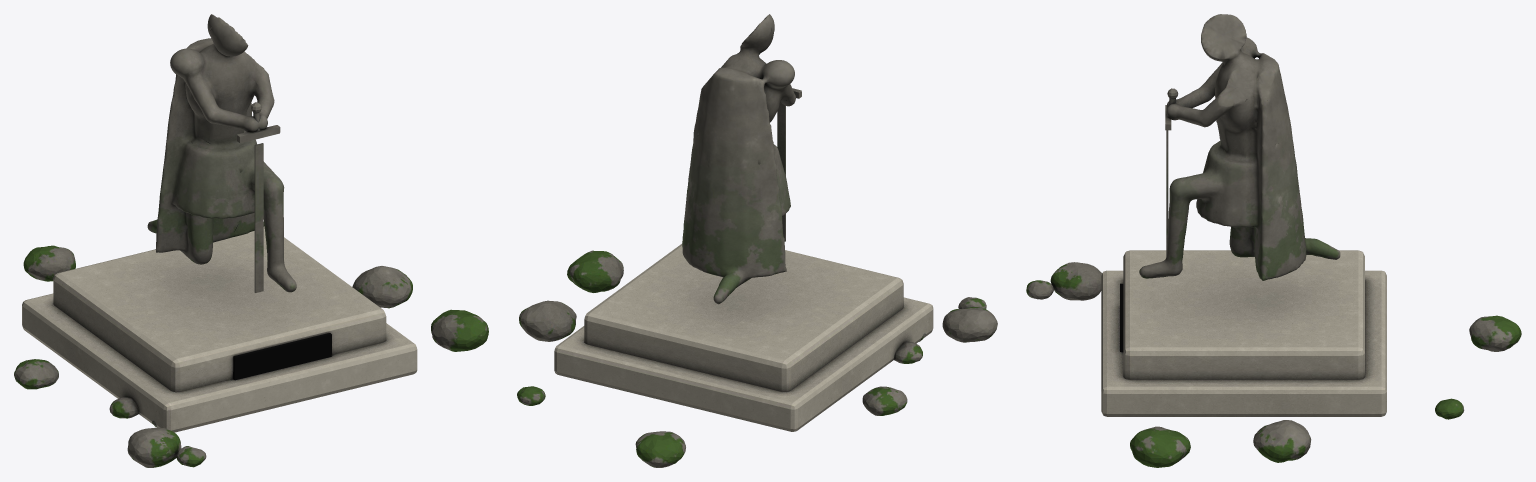
The model's file is vale_estatua_guerreiro.glb.
3 renders of one model, left to right at view 1: azimuth 30°, elevation 25°; view 2: azimuth 150°, elevation 25°; view 3: azimuth 270°, elevation 25°, orthographic. The views are drawn at different scales.
Parts seen in each view (by area): view 1: vale_estatua_guerreiro_tronco; view 2: vale_estatua_guerreiro_tronco; view 3: vale_estatua_guerreiro_tronco.
Boxes of the visible parts, x1,y1,x2,y2 form: vale_estatua_guerreiro_tronco: (14, 14, 488, 467); vale_estatua_guerreiro_tronco: (517, 14, 997, 467); vale_estatua_guerreiro_tronco: (1026, 14, 1521, 467).
Size of the model in its own units: 4.18 by 3.53 by 4.51.
Materials: 1 (1 with a texture image).
